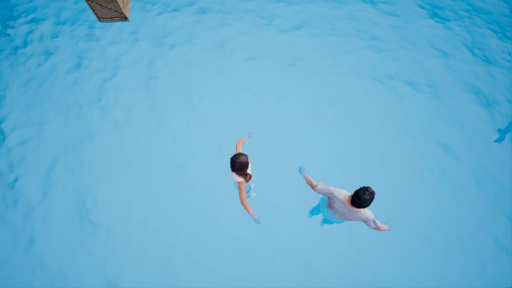person: (294, 164, 390, 235), (225, 135, 275, 230)
